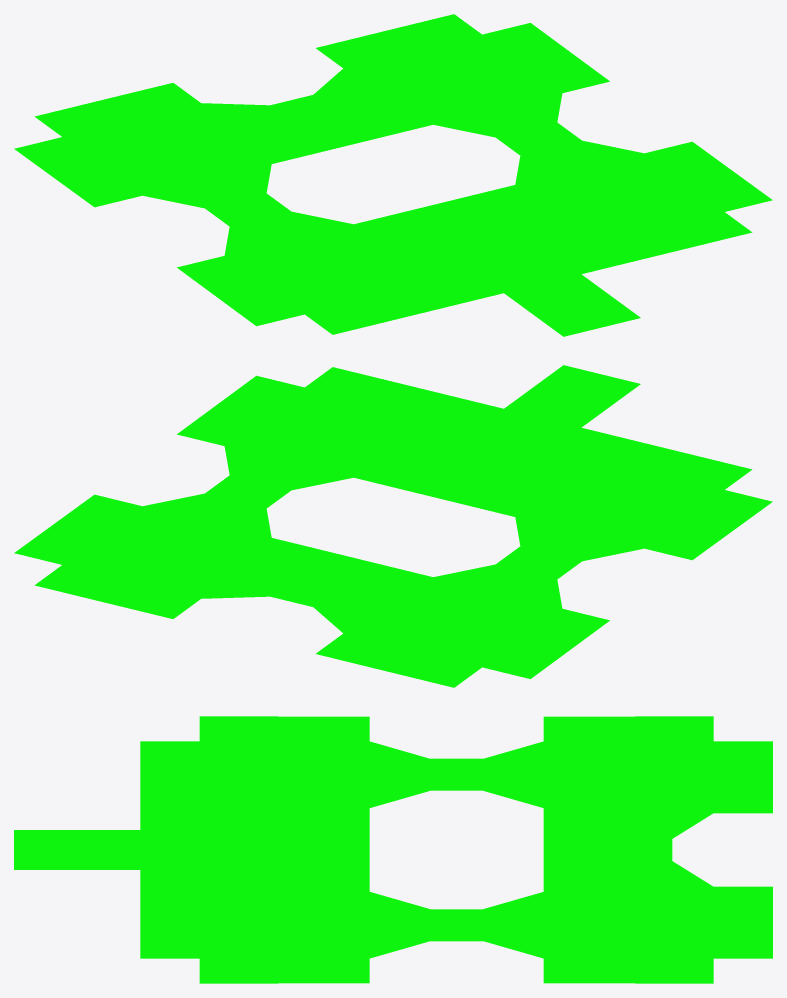
Rendered from s04b_nb2-floor.glb.
3 renders of one model, top to bottom at view 1: azimuth 30°, elevation 25°; view 2: azimuth 150°, elevation 25°; view 3: azimuth 270°, elevation 25°, orthographic. The views are drawn at different scales.
Visible parts, largest first — view 1: collision_floor-colonly; view 2: collision_floor-colonly; view 3: collision_floor-colonly.
Boxes of the visible parts, x1,y1,x2,y2 form: collision_floor-colonly: (14,14,772,336); collision_floor-colonly: (14,365,772,687); collision_floor-colonly: (14,716,772,983).
Size of the model in its own units: 39.98 by 0 by 48.
